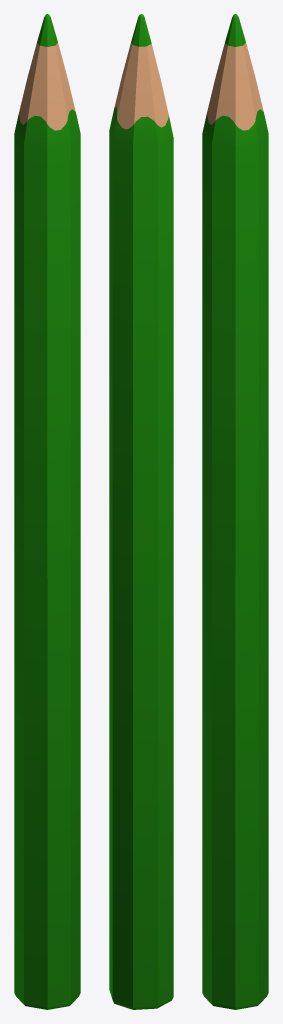
File: pencil_2.glb
The picture shows the model from 3 angles, left to right: view 1: azimuth 90°, elevation 25°; view 2: azimuth 210°, elevation 25°; view 3: azimuth 270°, elevation 25°; orthographic projection.
Parts seen in each view (by area): view 1: Cylinder.024; view 2: Cylinder.024; view 3: Cylinder.024.
Part boxes in pixels (box(x1,y1,x2,y2)): Cylinder.024: box(14, 14, 80, 1009); Cylinder.024: box(109, 14, 173, 1009); Cylinder.024: box(202, 14, 268, 1009).
Bounding box in the file's own units: 0.00842 × 0.1376 × 0.00842.
1 material, 1 textured.
